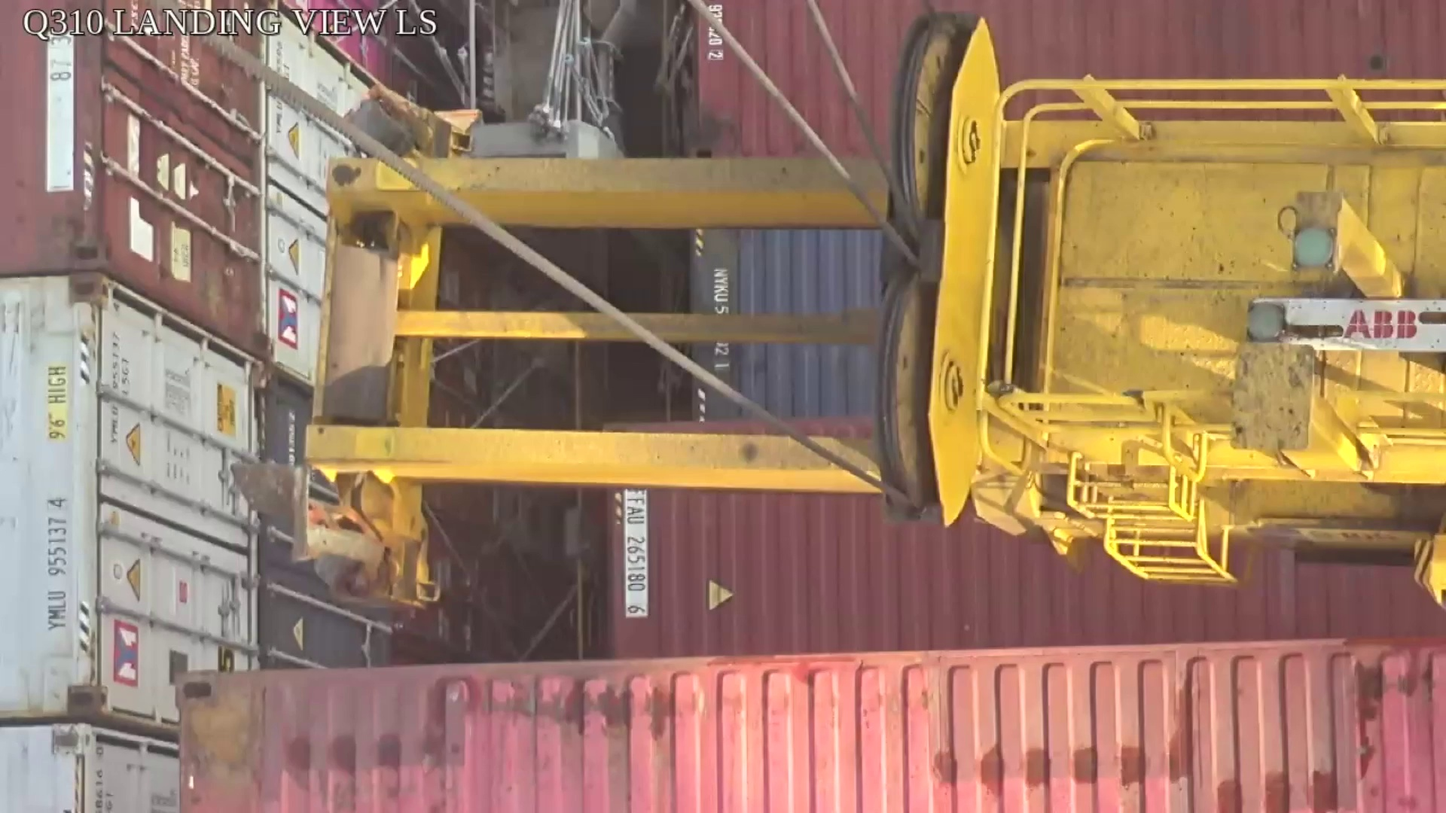aa: (886, 12, 999, 528)
